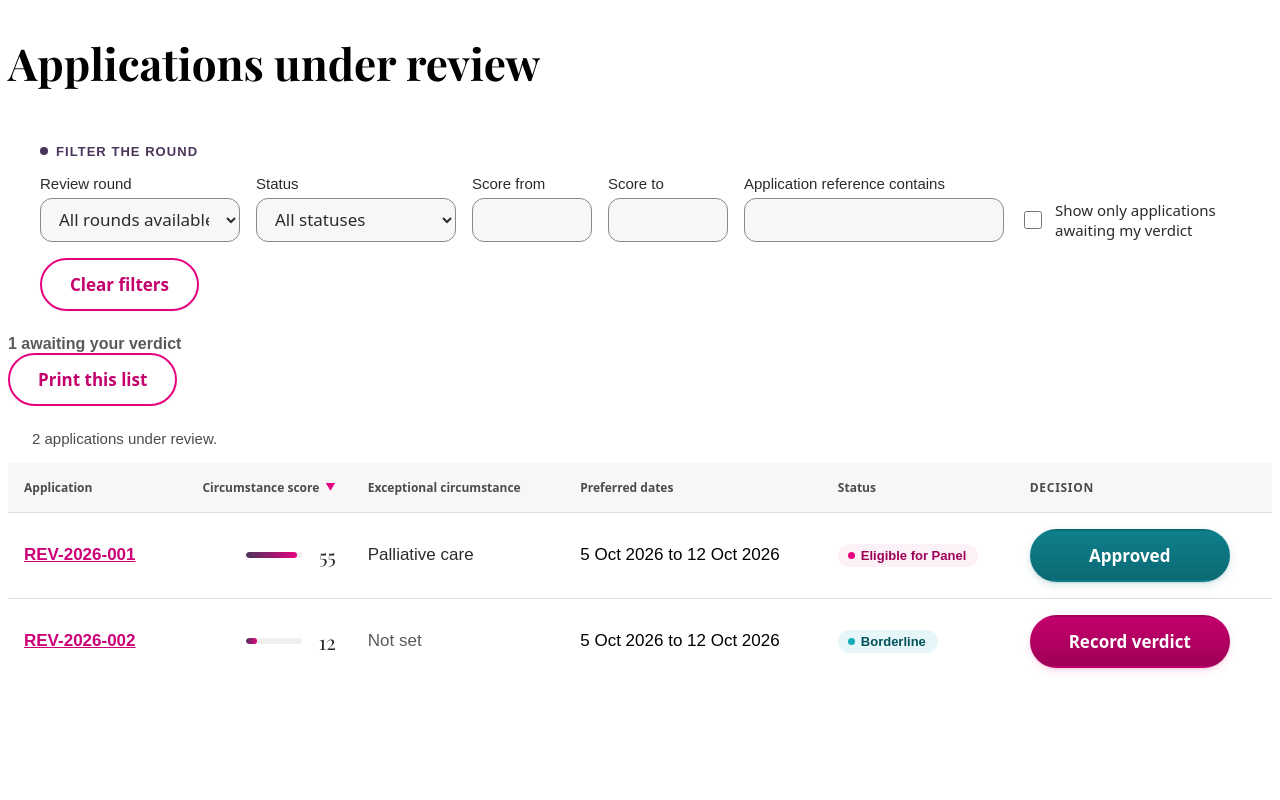
Scenario: ApplicationsListPage — own verdict and what awaits it (SDD A-14, FR-116, FR-117; ADR-086) › narrows to the awaiting applications with the filter on, and the caption reports it; off restores the list
expect the text "1 awaiting your verdict" is shown: met, box x1=8 y1=335 x2=181 y2=352
Click the checkbox labelled "Show only applications awaiting my verdict".
click(1033, 220)  # box x1=1024 y1=211 x2=1042 y2=229
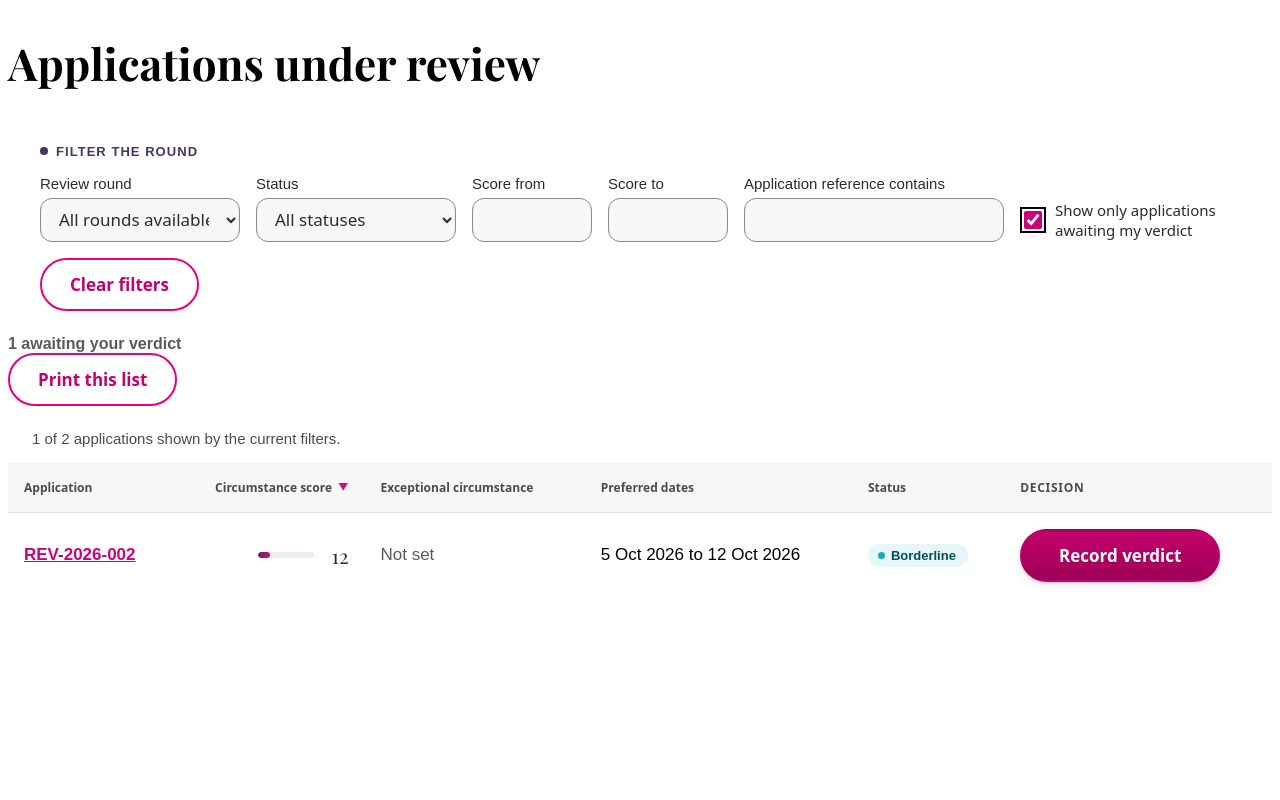
expect the button with aria-label "REV-2026-002, open the full case" is shown: met, box x1=24 y1=533 x2=136 y2=577
expect the text "1 of 2 applications shown by the current filters." is shown: met, box x1=8 y1=406 x2=1272 y2=463
Click the checkbox labelled "Show only applications awaiting my verdict".
click(1033, 220)  # box x1=1024 y1=211 x2=1042 y2=229
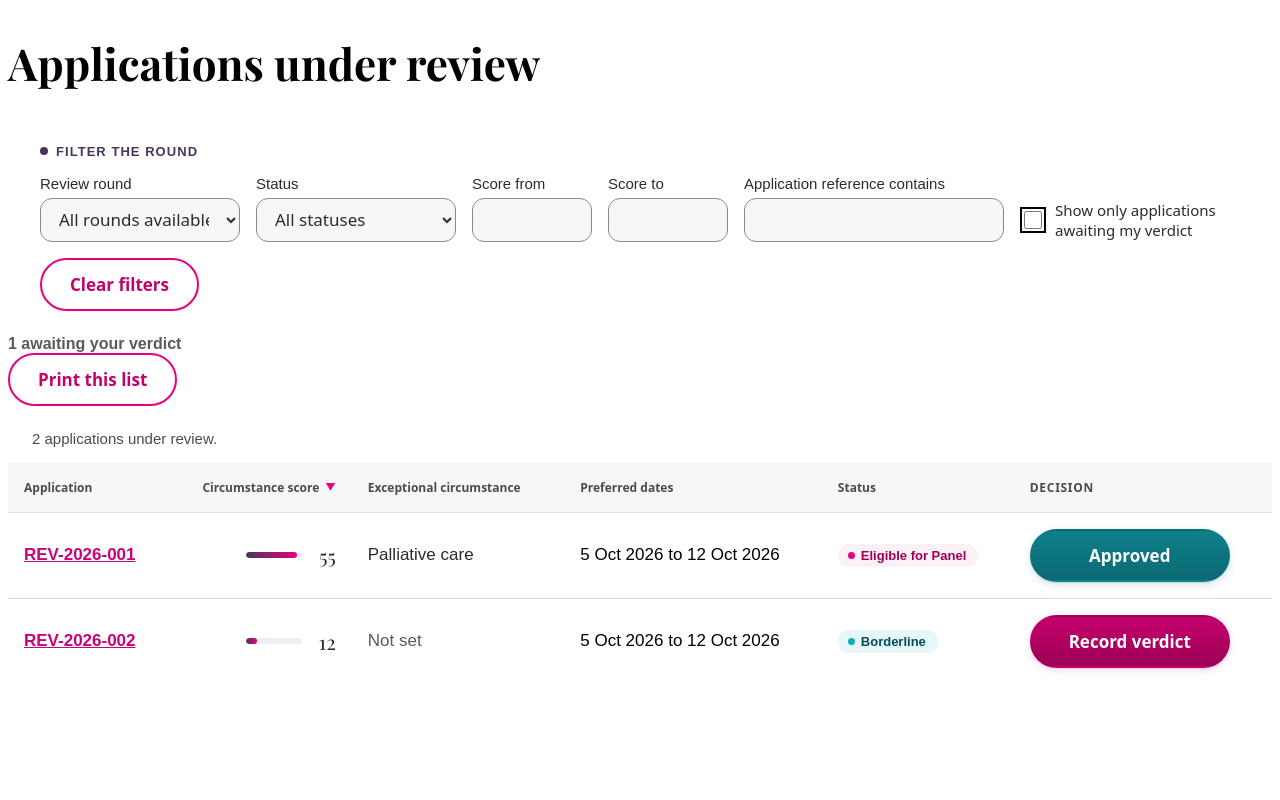
expect the button with aria-label "REV-2026-001, open the full case" is shown: met, box x1=24 y1=533 x2=136 y2=577
